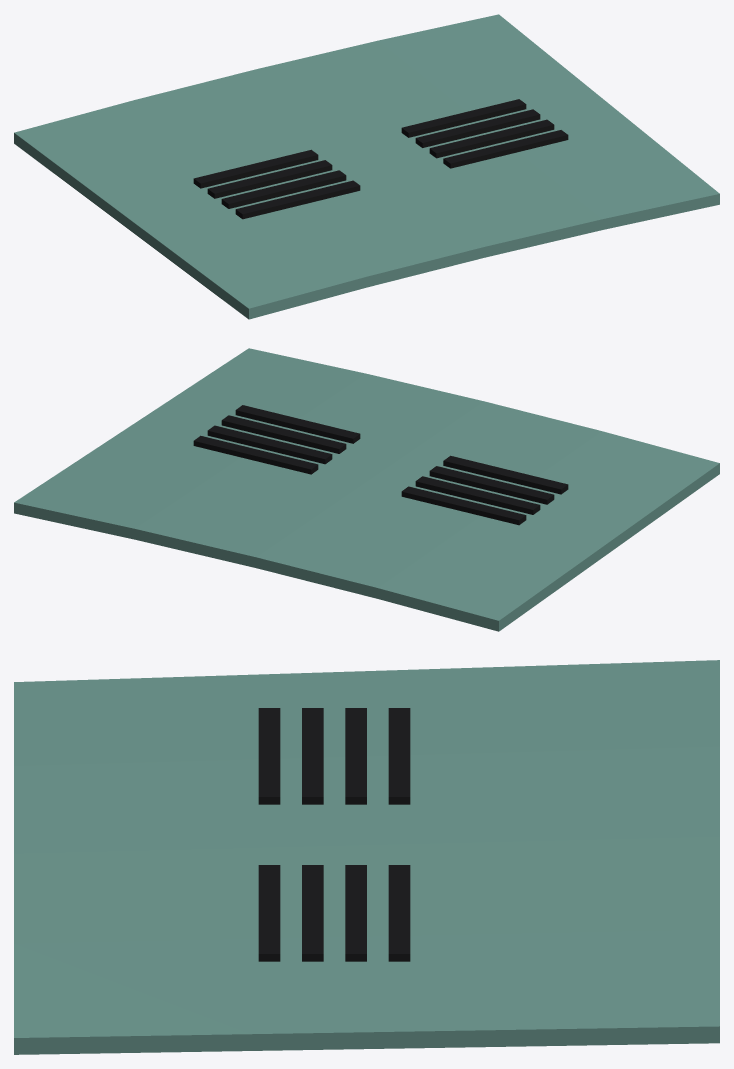
Rendered from bonnet_vented.glb.
3 views of the same model, one above another, from view 1: azimuth 30°, elevation 25°; view 2: azimuth 150°, elevation 25°; view 3: azimuth 270°, elevation 25° (orthographic). The views are drawn at different scales.
Parts seen in each view (by area): view 1: bonnet_vented, vents; view 2: bonnet_vented, vents; view 3: bonnet_vented, vents.
Boxes of the visible parts, left/top/right/bottom form: bonnet_vented: left=14, top=14, right=719, bottom=319; vents: left=193, top=99, right=568, bottom=219; bonnet_vented: left=14, top=348, right=719, bottom=631; vents: left=193, top=405, right=568, bottom=525; bonnet_vented: left=14, top=660, right=719, bottom=1054; vents: left=258, top=708, right=410, bottom=961.
Bounding box in the file's own units: 1.4 × 0.082 × 1.14.
